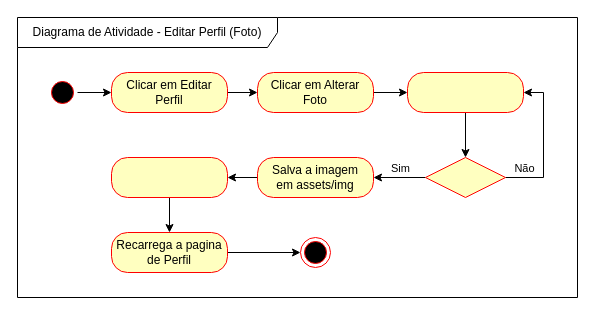
This 595x315 diagram has some shape labels left out. Each missing label, with the box of its shape:
Altera a url da imagem no banco: (110, 156, 228, 198)
Selecionar uma nova imagem: (406, 72, 524, 112)
